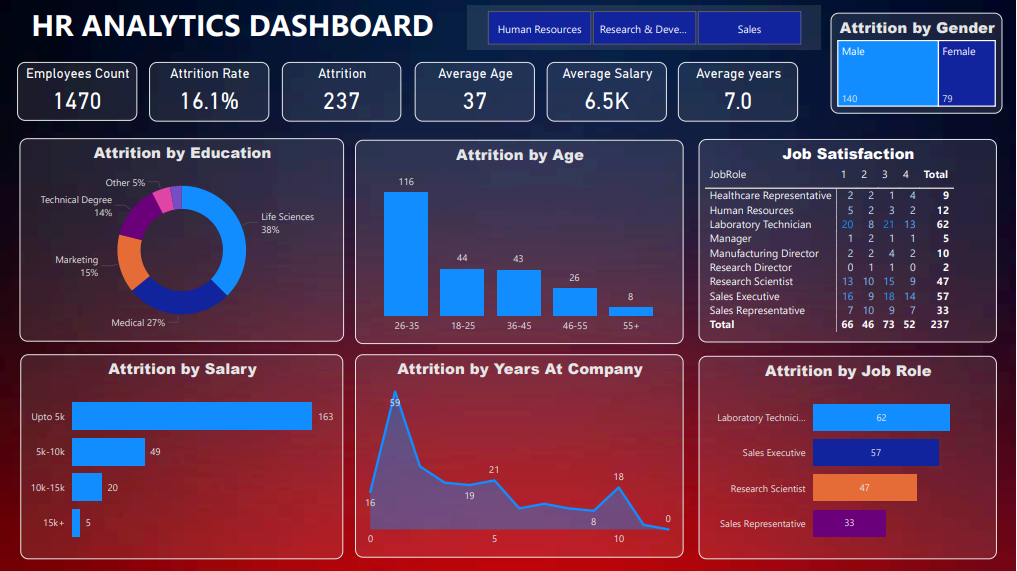

This screenshot's page, from the dashboard's own definition file:
{"tool":"powerbi","page":{"name":"Page 1","canvas":[1280,720],"ordinal":0},"visuals":[{"type":"card","title":"Employees Count","fields":{"Values":["Sum(HR_Analytics (2).EmployeeCount)"]},"box":[24.3,78.3,151,74],"z":0},{"type":"card","title":"Attrition","fields":{"Values":["Sum(HR_Analytics (2).AttritionCount)"]},"box":[356.5,78.3,150.8,74.6],"z":1000},{"type":"card","title":"Attrition Rate","fields":{"Values":["HR_Analytics (2).AttritionRate"]},"box":[190.4,78.3,150.8,74.6],"z":2000},{"type":"card","title":"Average Age","fields":{"Values":["Avg(HR_Analytics (2).Age)"]},"box":[524.3,78.3,150.8,74.6],"z":3000},{"type":"card","title":"Average Salary","fields":{"Values":["Avg(HR_Analytics (2).MonthlyIncome)"]},"box":[690.4,78.3,150.8,74.6],"z":4000},{"type":"card","title":"Average years","fields":{"Values":["Avg(HR_Analytics (2).YearsAtCompany)"]},"box":[854.8,78.3,150.8,74.6],"z":5000},{"type":"donutChart","title":"Attrition by Education","fields":{"Category":["HR_Analytics (2).EducationField"],"Y":["Sum(HR_Analytics (2).AttritionCount)"]},"box":[26.9,174.2,407.6,256],"z":6000},{"type":"columnChart","title":"Attrition by Age","fields":{"Category":["HR_Analytics (2).AgeGroup"],"Y":["Sum(HR_Analytics (2).AttritionCount)"]},"box":[449.4,176.5,412.8,256],"z":7000},{"type":"pivotTable","title":"Job Satisfaction","fields":{"Rows":["HR_Analytics (2).JobRole"],"Columns":["HR_Analytics (2).JobSatisfaction"],"Values":["Sum(HR_Analytics (2).AttritionCount)"]},"box":[881.3,174.8,374.5,256],"z":8000},{"type":"barChart","title":"Attrition by Salary","fields":{"Category":["HR_Analytics (2).SalarySlab"],"Y":["Sum(HR_Analytics (2).AttritionCount)"]},"box":[27.9,446.5,405.8,257.8],"z":9000},{"type":"barChart","title":"Attrition by Job Role","fields":{"Category":["HR_Analytics (2).JobRole"],"Y":["Sum(HR_Analytics (2).AttritionCount)"],"Series":["HR_Analytics (2).JobRole"]},"box":[881.3,448.2,374.5,256],"z":10000},{"type":"areaChart","title":"Attrition by Years At Company","fields":{"Category":["HR_Analytics (2).YearsAtCompany"],"Y":["Sum(HR_Analytics (2).AttritionCount)"]},"box":[449.4,446.5,412.8,256],"z":11000},{"type":"treemap","title":"Attrition by Gender","fields":{"Group":["HR_Analytics (2).Gender"],"Values":["Sum(HR_Analytics (2).AttritionCount)"]},"box":[1046.8,15.7,216,127.1],"z":12000},{"type":"slicer","fields":{"Values":["HR_Analytics (2).Department"]},"box":[589.8,6.8,444.1,55.9],"z":13000},{"type":"textbox","box":[0,0,589.8,62.7],"z":14000}]}

Visuals, with their boxes in screenshot pixels (x1, y1, x2, y2), scaled from the page's 1280x720 canvas onto the 1017x571 screenshot:
"Employees Count" card: {"x1": 19, "y1": 62, "x2": 139, "y2": 121}
"Attrition" card: {"x1": 283, "y1": 62, "x2": 403, "y2": 121}
"Attrition Rate" card: {"x1": 151, "y1": 62, "x2": 271, "y2": 121}
"Average Age" card: {"x1": 417, "y1": 62, "x2": 536, "y2": 121}
"Average Salary" card: {"x1": 549, "y1": 62, "x2": 668, "y2": 121}
"Average years" card: {"x1": 679, "y1": 62, "x2": 799, "y2": 121}
"Attrition by Education" donutChart: {"x1": 21, "y1": 138, "x2": 345, "y2": 341}
"Attrition by Age" columnChart: {"x1": 357, "y1": 140, "x2": 685, "y2": 343}
"Job Satisfaction" pivotTable: {"x1": 700, "y1": 139, "x2": 998, "y2": 342}
"Attrition by Salary" barChart: {"x1": 22, "y1": 354, "x2": 345, "y2": 559}
"Attrition by Job Role" barChart: {"x1": 700, "y1": 355, "x2": 998, "y2": 558}
"Attrition by Years At Company" areaChart: {"x1": 357, "y1": 354, "x2": 685, "y2": 557}
"Attrition by Gender" treemap: {"x1": 832, "y1": 12, "x2": 1003, "y2": 113}
slicer - HR_Analytics (2).Department: {"x1": 469, "y1": 5, "x2": 821, "y2": 50}
textbox: {"x1": 0, "y1": 0, "x2": 469, "y2": 50}
